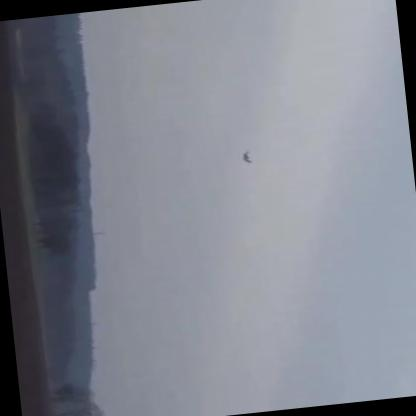plane: (237, 145, 259, 169)
